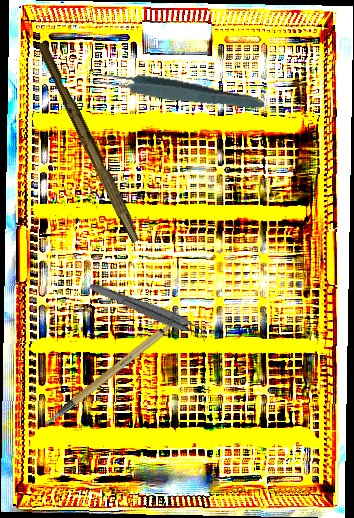Scalpel Handle: (31, 40, 147, 244), (29, 312, 194, 427)
Tissue Forceps: (92, 65, 266, 116), (86, 280, 211, 343)
